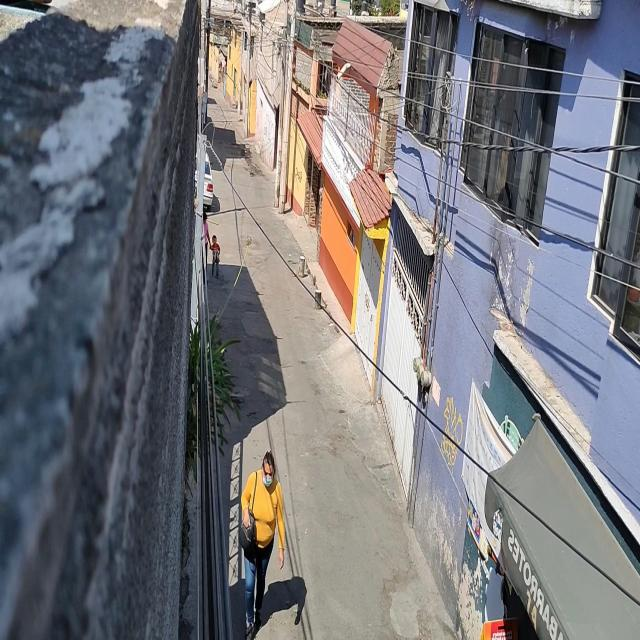adult: (239, 450, 286, 640)
